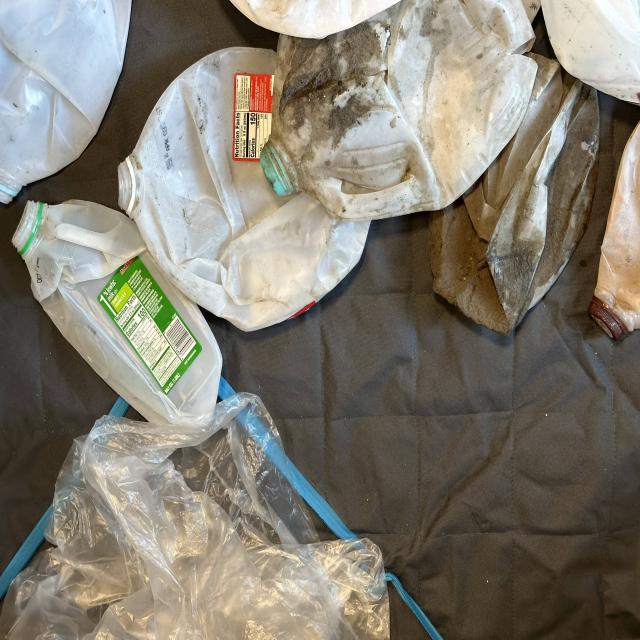milk-jug: (121, 45, 374, 327), (258, 0, 536, 223), (12, 193, 235, 436)
